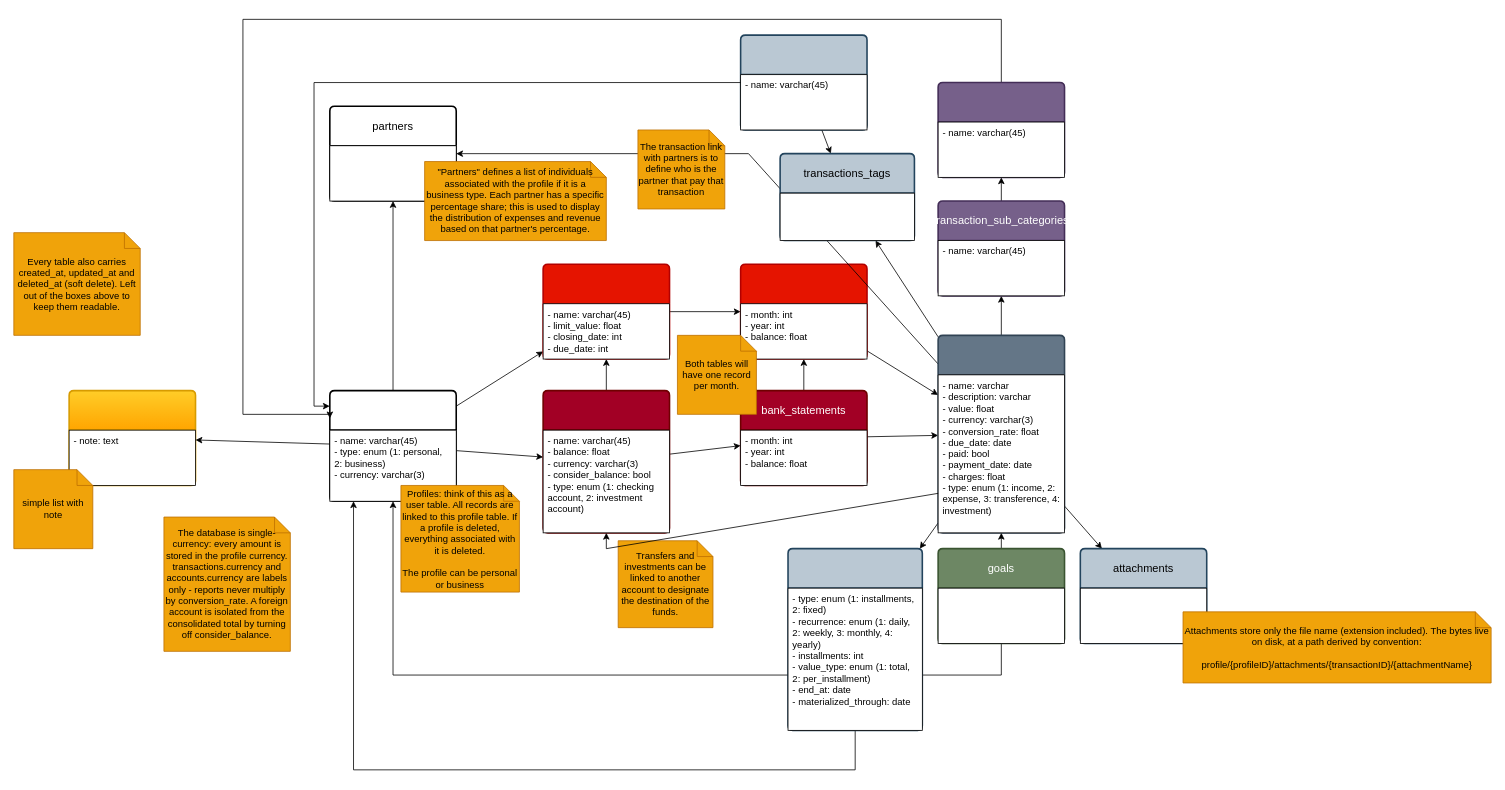
The diagram is 1505 pixels wide and 790 high, and some of its shapes have lost their labels. The box of each missing label's shape, as (x1, y1, x2, y2) in pixels:
- name: varchar: (1080, 587, 1207, 643)
- name: varchar(100) - percentage: float: (329, 145, 456, 201)
- name: varchar(45) - value: float - target_date: date: (937, 587, 1065, 643)
- transaction_id: uuid - tag_id: uuid: (779, 192, 914, 241)
accounts: (542, 389, 670, 533)
credit_cards: (542, 263, 670, 359)
invoices: (739, 263, 867, 359)
notes: (68, 389, 196, 486)
profiles: (329, 389, 457, 502)
recurrences: (787, 547, 923, 731)
tags: (739, 34, 867, 130)
transaction_categories: (937, 81, 1065, 178)
transactions: (937, 334, 1065, 533)
